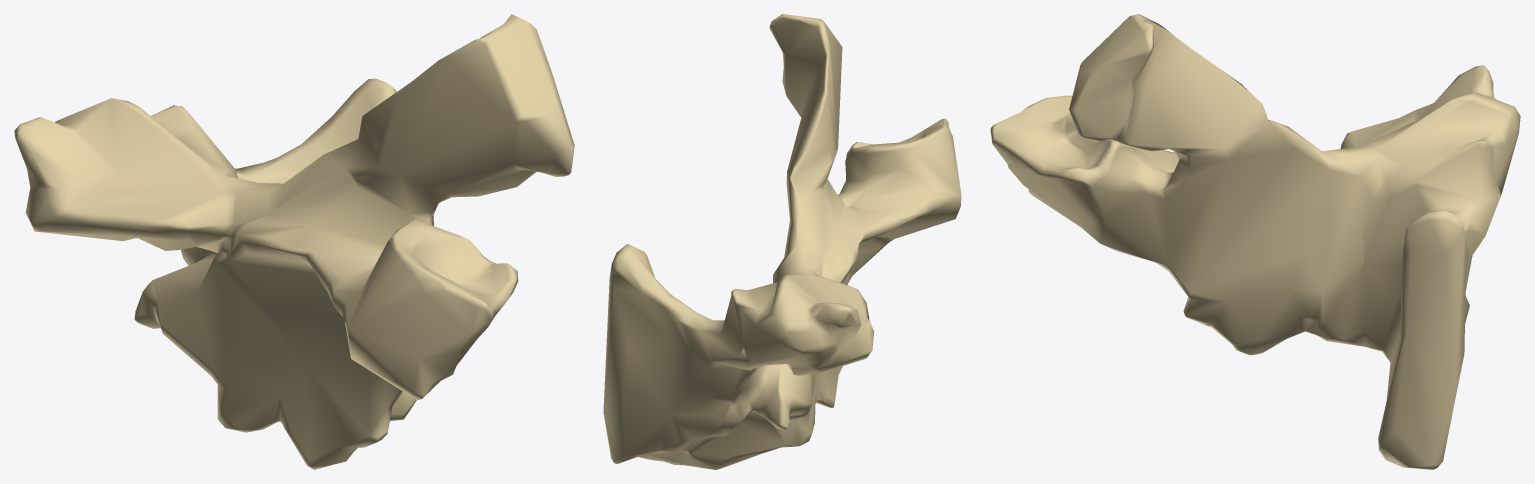
3 renders of one model, left to right at view 1: azimuth 30°, elevation 25°; view 2: azimuth 150°, elevation 25°; view 3: azimuth 270°, elevation 25°, orthographic. The views are drawn at different scales.
Visible parts, largest first — view 1: 右侧腭骨; view 2: 右侧腭骨; view 3: 右侧腭骨.
Part boxes in pixels (left/top/right/bottom): 右侧腭骨: left=14, top=14, right=574, bottom=469; 右侧腭骨: left=603, top=14, right=961, bottom=469; 右侧腭骨: left=990, top=14, right=1520, bottom=469.
Bounding box in the file's own units: 0.0387 × 0.0519 × 0.0592.
